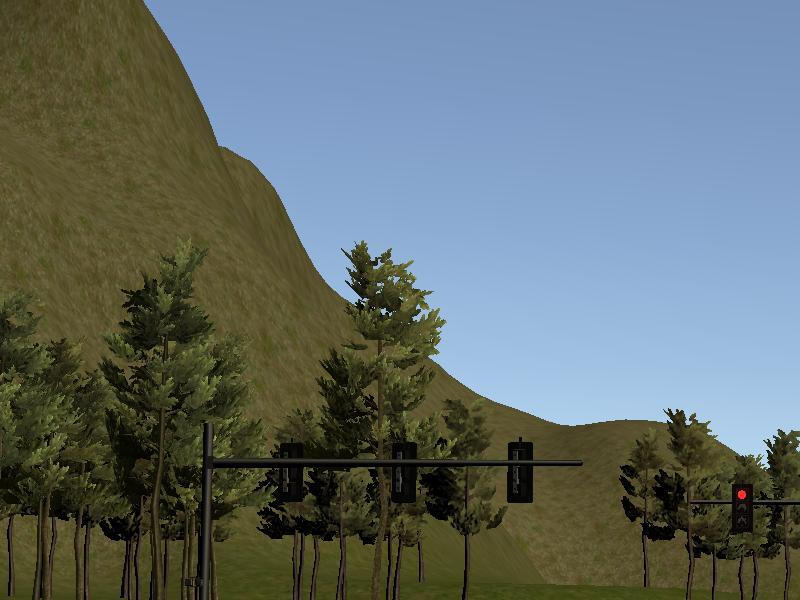Red: (733, 485, 754, 534)
